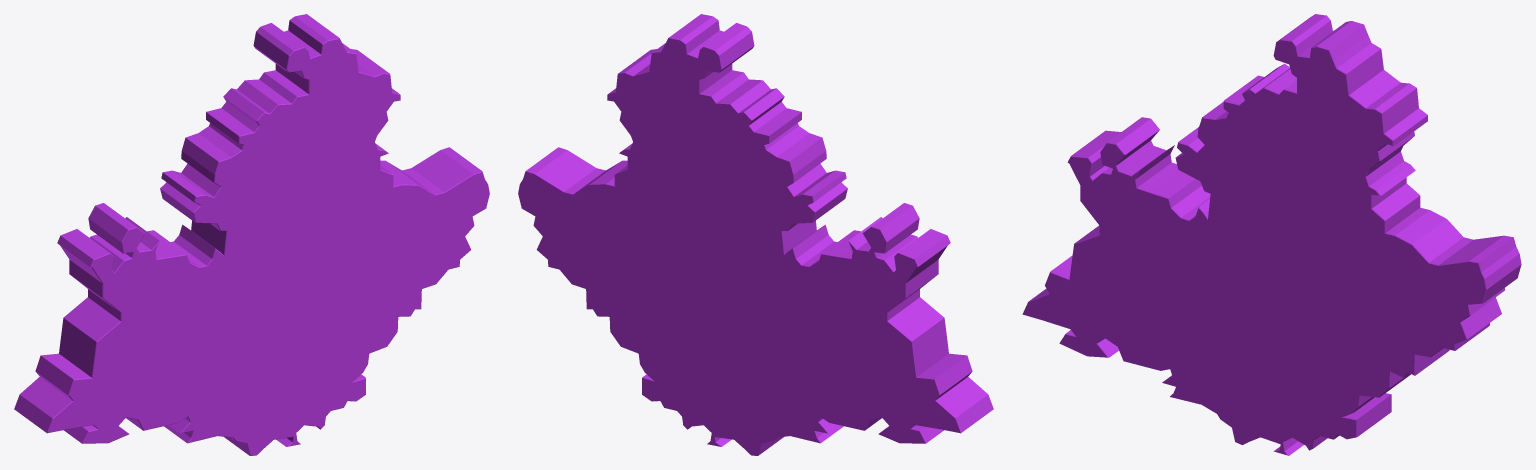
The model's file is ProvenceAlpesCoteAzur.glb.
The picture shows the model from 3 angles, left to right: view 1: azimuth 30°, elevation 25°; view 2: azimuth 150°, elevation 25°; view 3: azimuth 330°, elevation 25°; orthographic projection. The views are drawn at different scales.
Parts seen in each view (by area): view 1: Provence-Alpes-Cote-Azur; view 2: Provence-Alpes-Cote-Azur; view 3: Provence-Alpes-Cote-Azur.
Part boxes in pixels (x1,y1,x2,y2): Provence-Alpes-Cote-Azur: [14, 14, 489, 455]; Provence-Alpes-Cote-Azur: [518, 14, 993, 455]; Provence-Alpes-Cote-Azur: [1022, 14, 1521, 455].
Bounding box in the file's own units: 0.9862 × 0.8467 × 0.1283.
